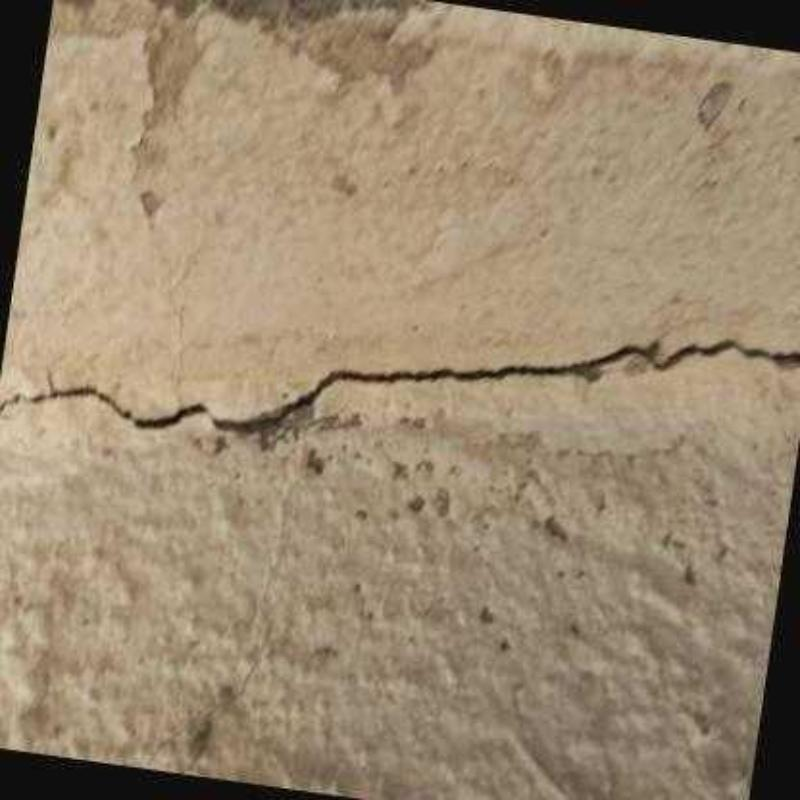pothole: (1, 339, 798, 430), (146, 456, 300, 773), (169, 288, 187, 408)
